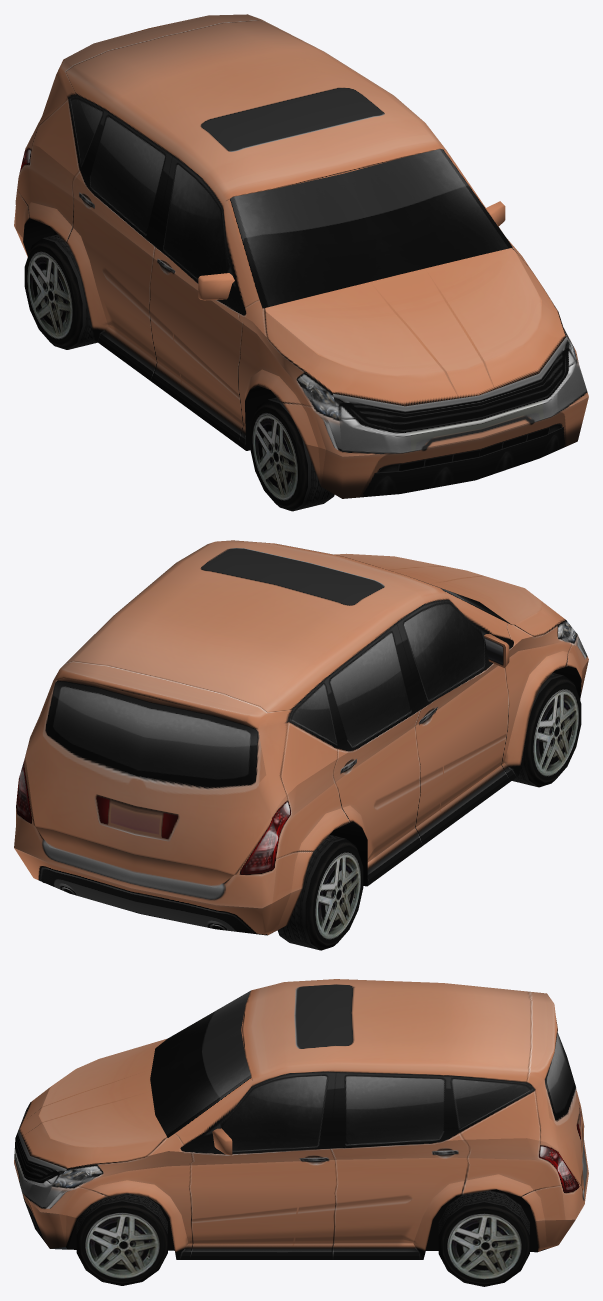
Rendered from traf_veh4.fbx.
The picture shows the model from 3 angles, top to bottom: view 1: azimuth 30°, elevation 25°; view 2: azimuth 150°, elevation 25°; view 3: azimuth 270°, elevation 25°; orthographic projection. The views are drawn at different scales.
Parts seen in each view (by area): view 1: traf_veh4; view 2: traf_veh4; view 3: traf_veh4.
Boxes of the visible parts, x1,y1,x2,y2 form: traf_veh4: (14, 14, 588, 511); traf_veh4: (14, 540, 588, 950); traf_veh4: (14, 979, 588, 1286).
Size of the model in its own units: 2.09 by 1.75 by 4.16.
